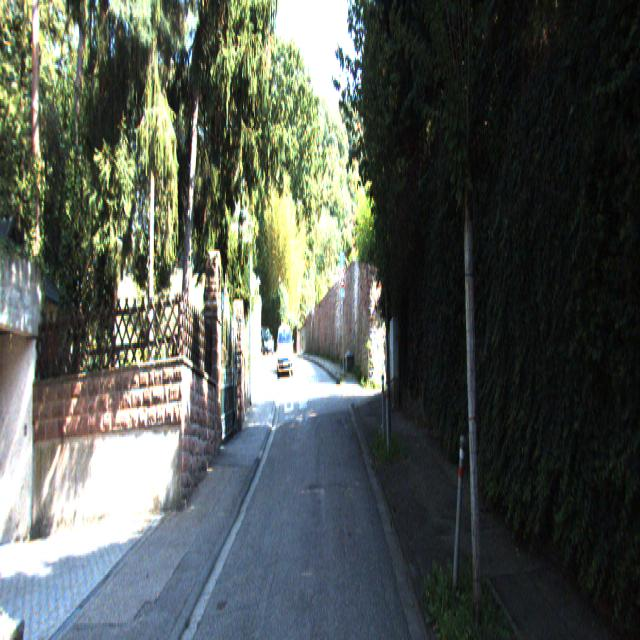Car: (277, 322, 293, 380), (260, 324, 274, 354)
